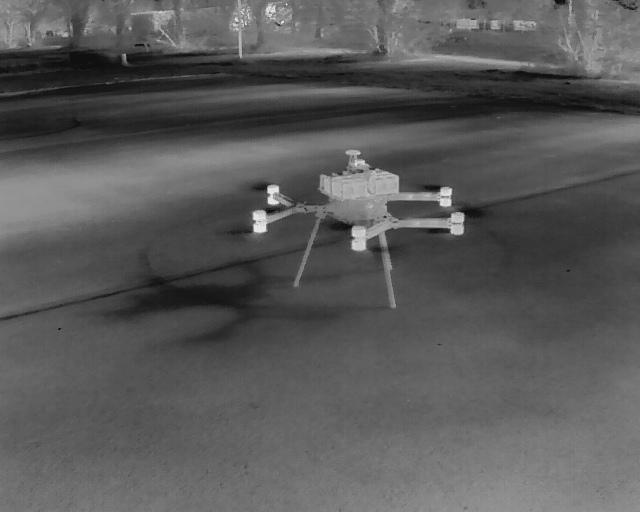drone: (226, 144, 483, 313)
